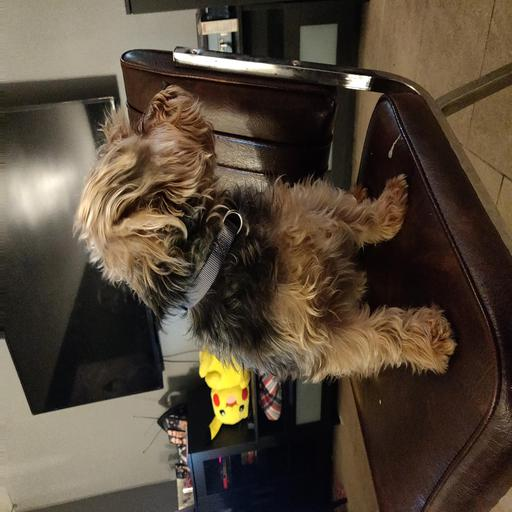dog: (70, 84, 333, 347)
